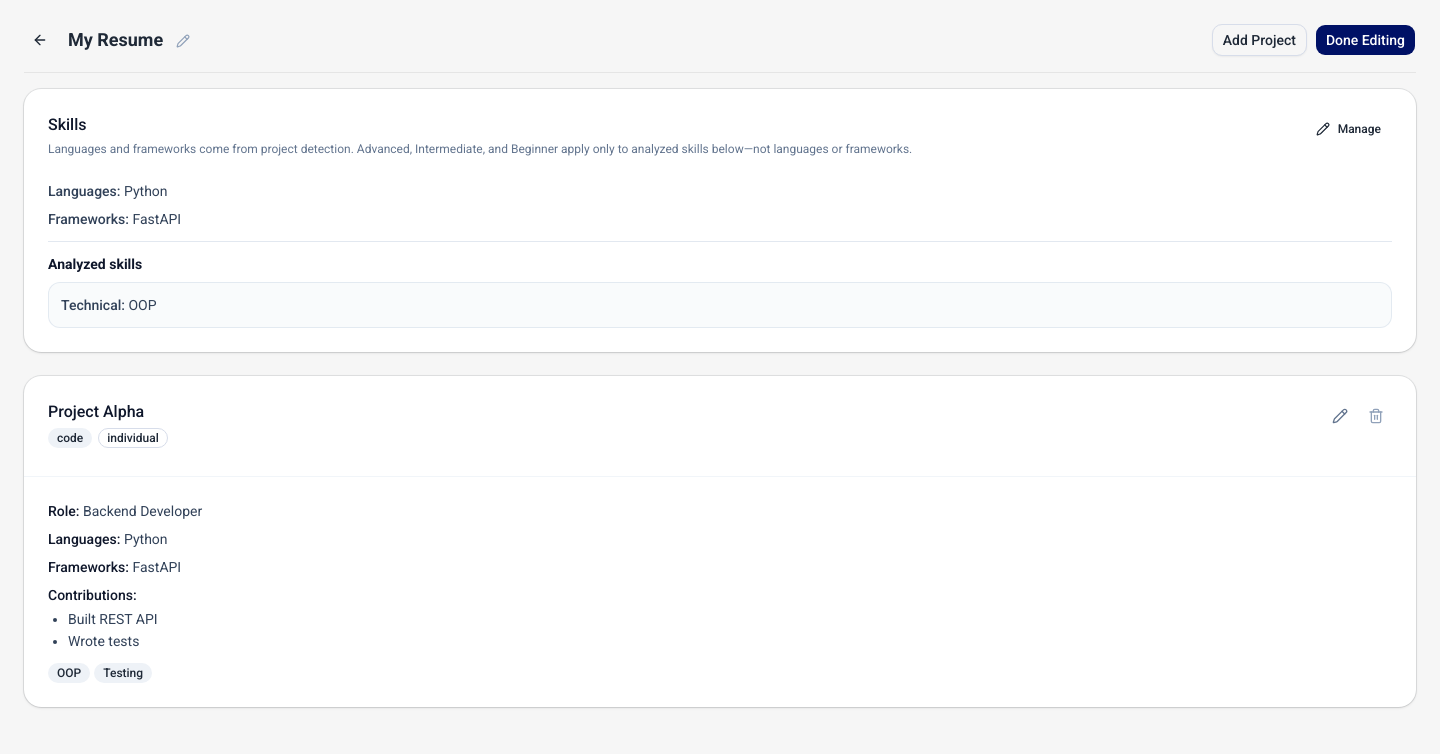
Test: ResumeDetail › editing project fields › loads eligible roles into key role dropdown when project edit opens
Expected: the text "Project Alpha" is shown, [48, 402, 144, 421]
Click the button named "Edit project" at [1340, 416], box [1324, 400, 1356, 432]
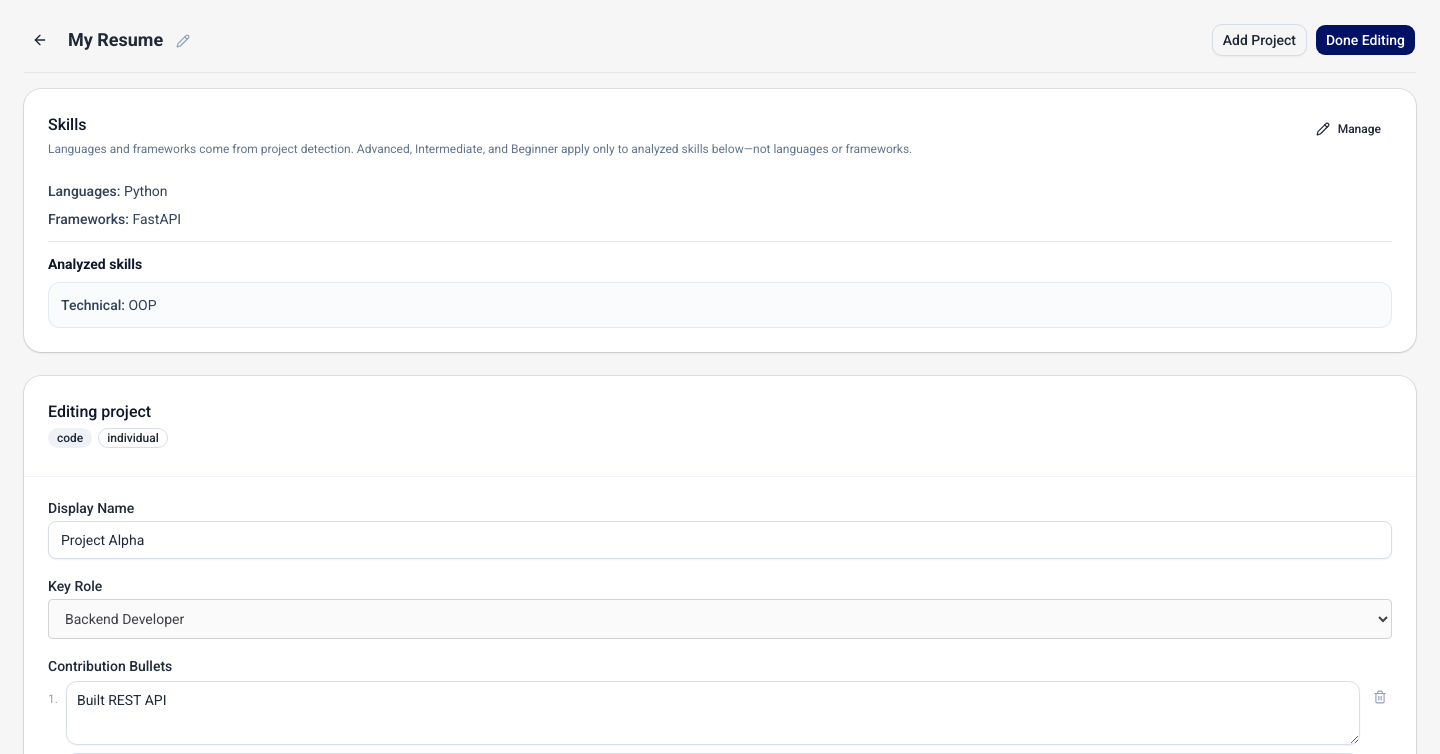
Expected: the dropdown labelled "Key Role" is shown, [48, 599, 1392, 639]
